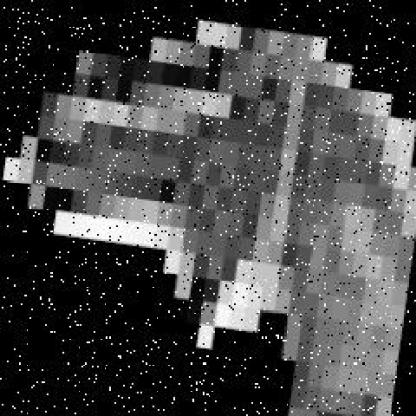handgun: (11, 13, 411, 416)
